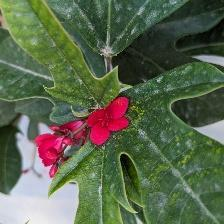jatropha: (86, 97, 133, 141)
